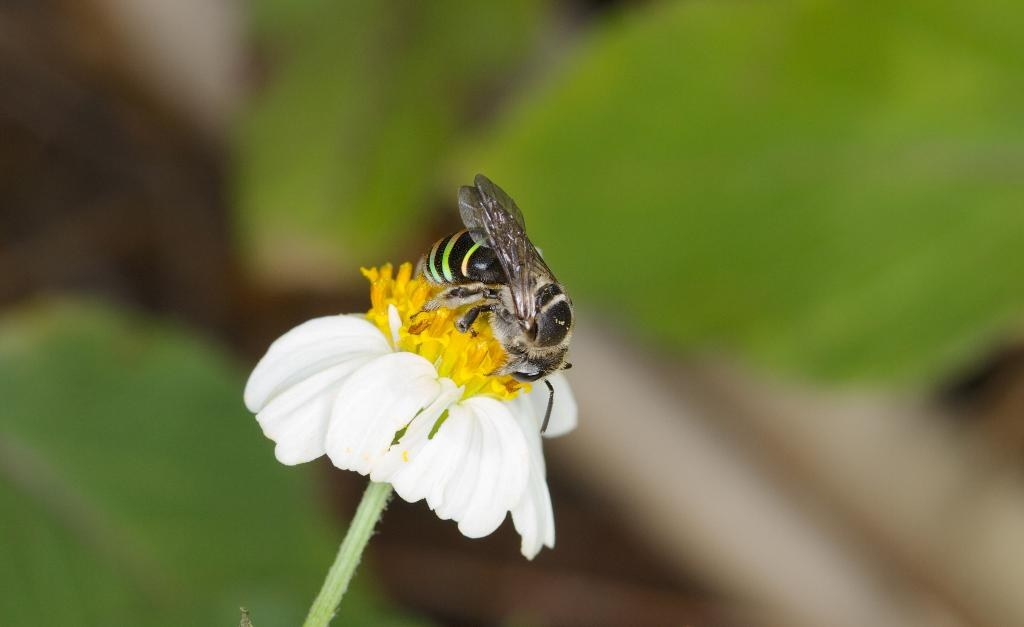bee: (385, 172, 588, 416)
insect: (229, 261, 486, 532)
